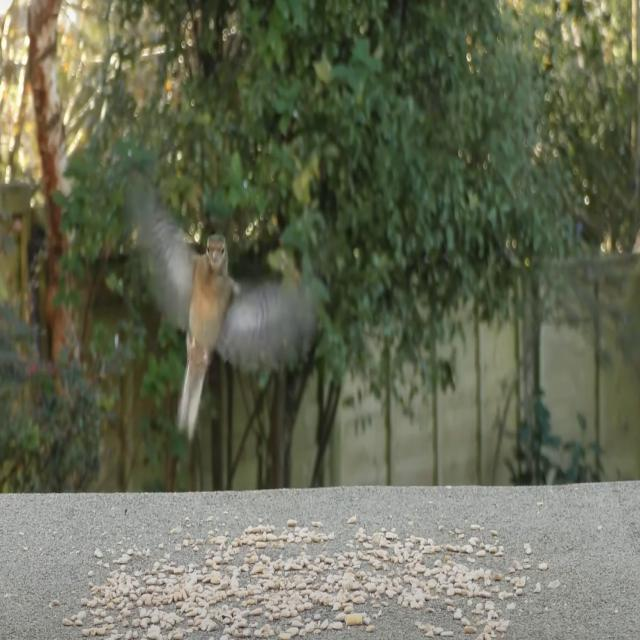beak: (211, 248, 218, 264)
bird: (131, 164, 313, 440)
